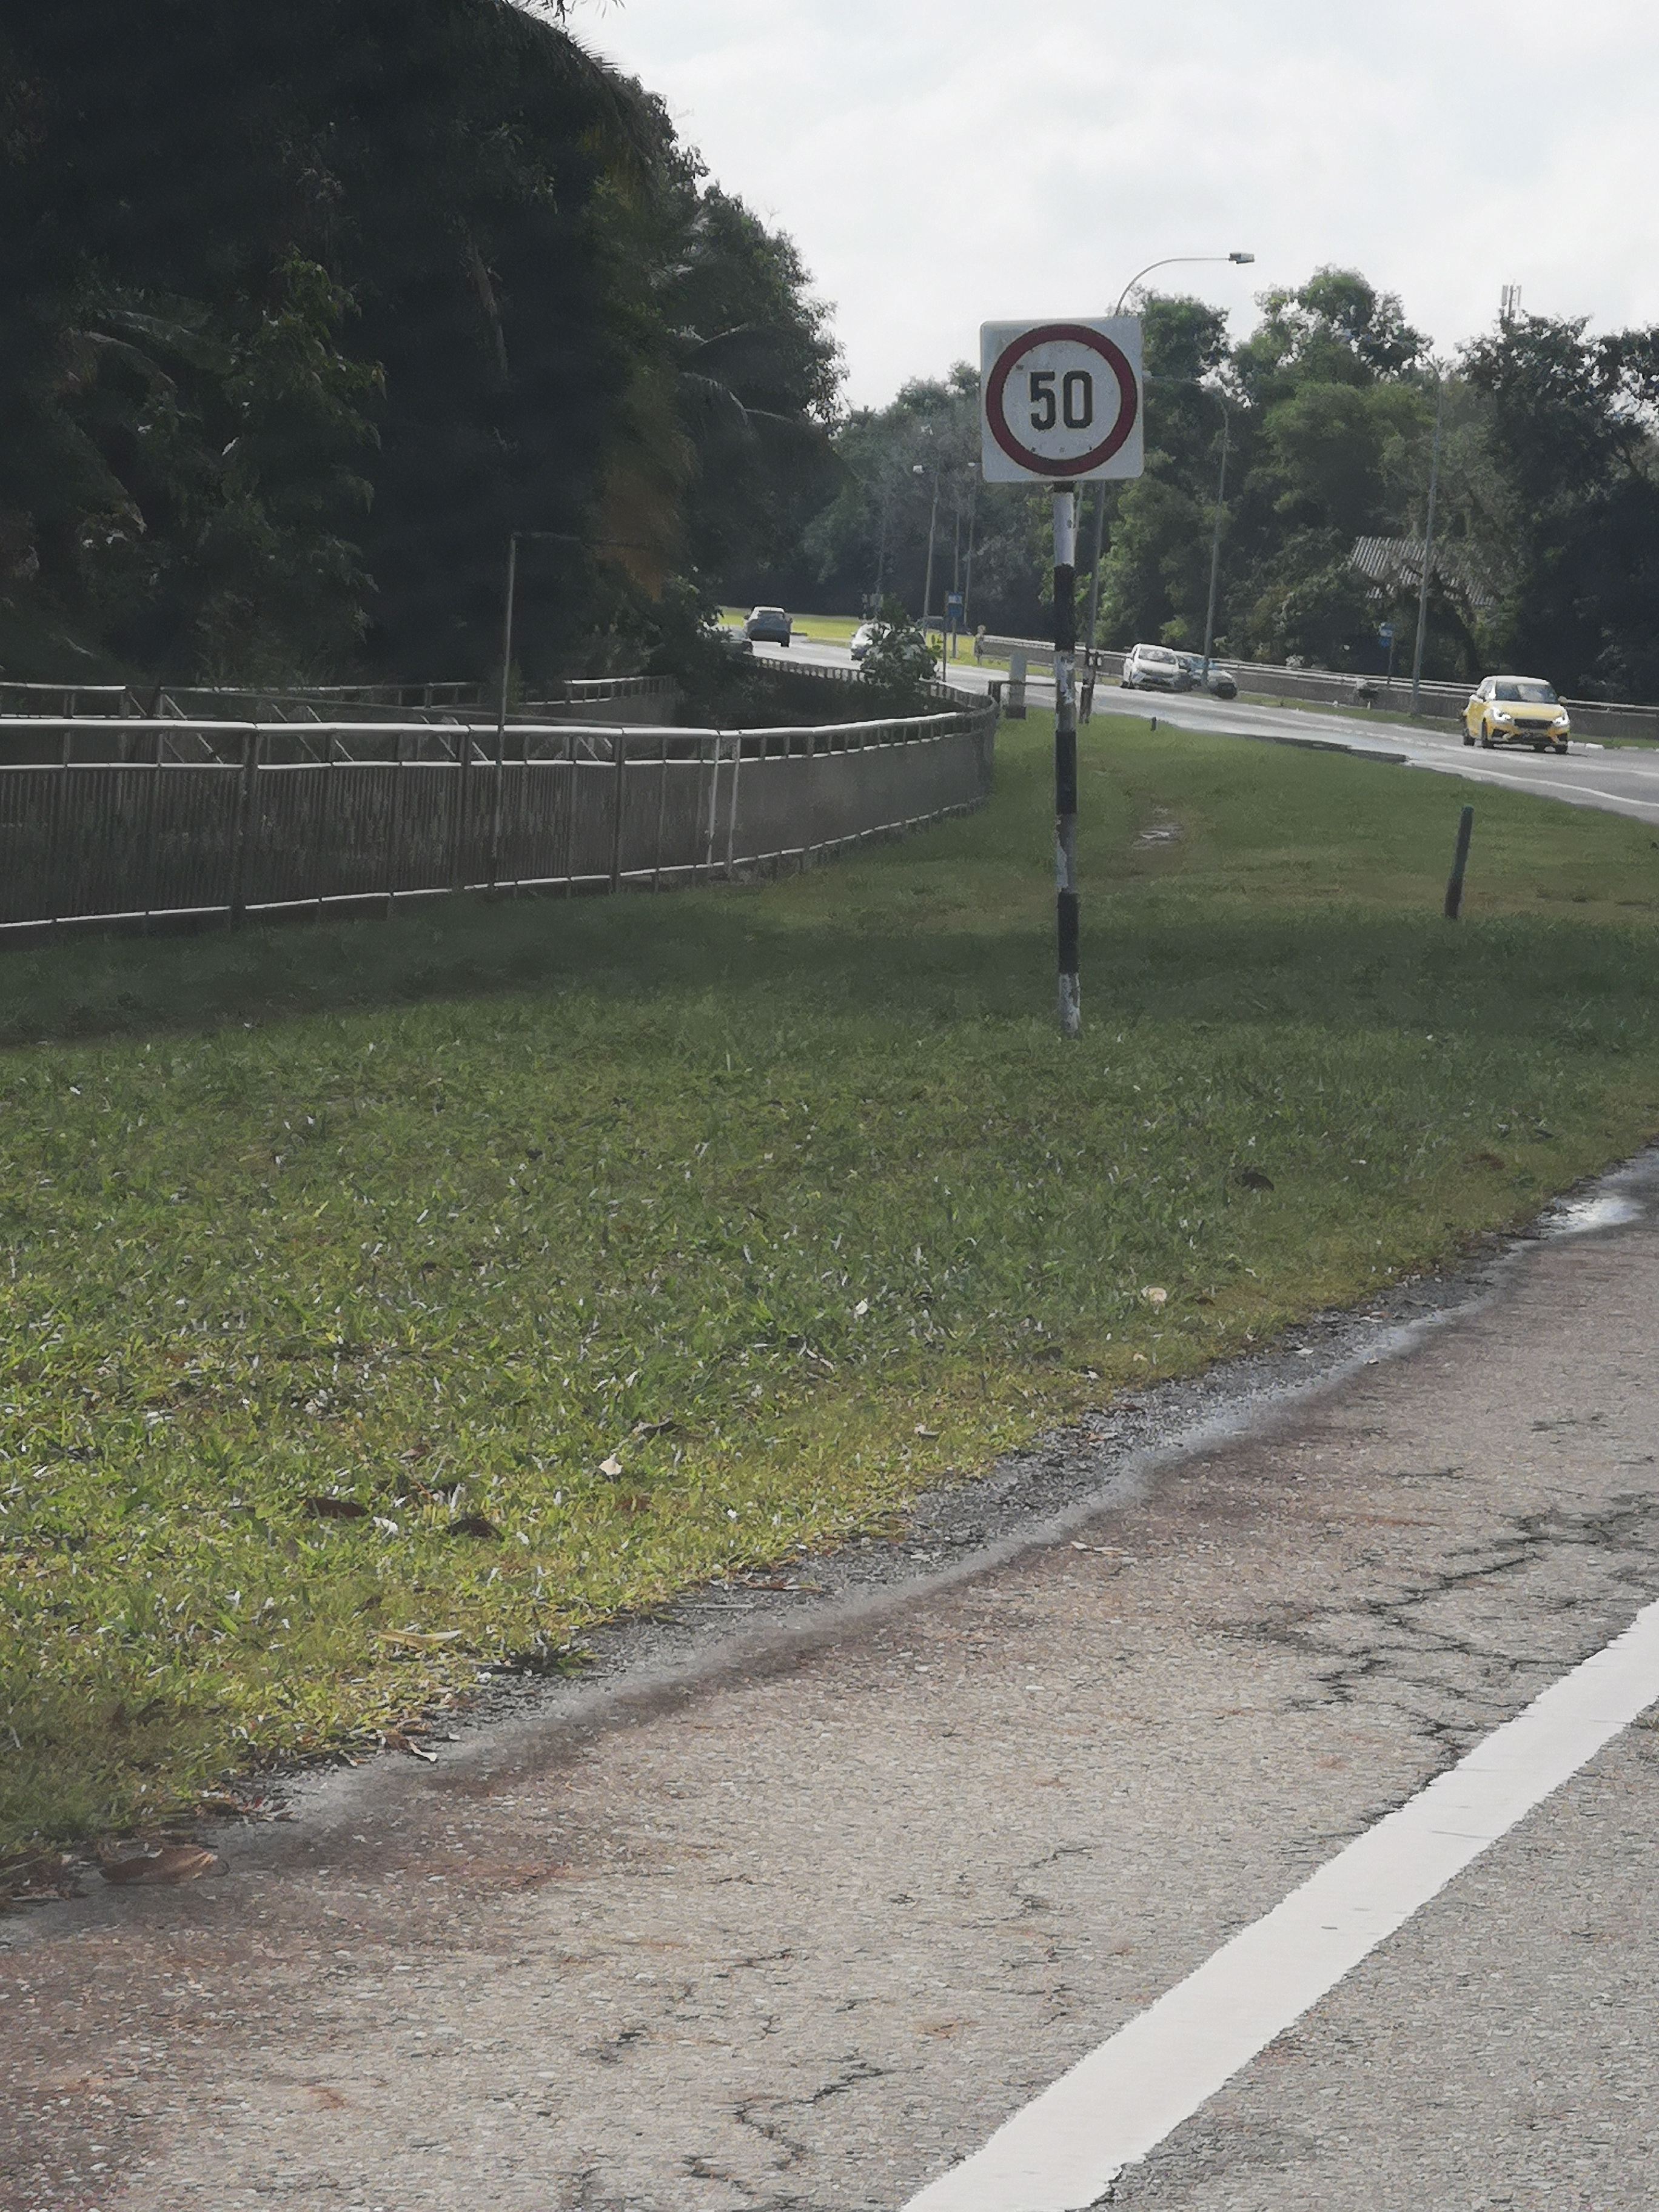speed limit 50: (978, 310, 1159, 495)
